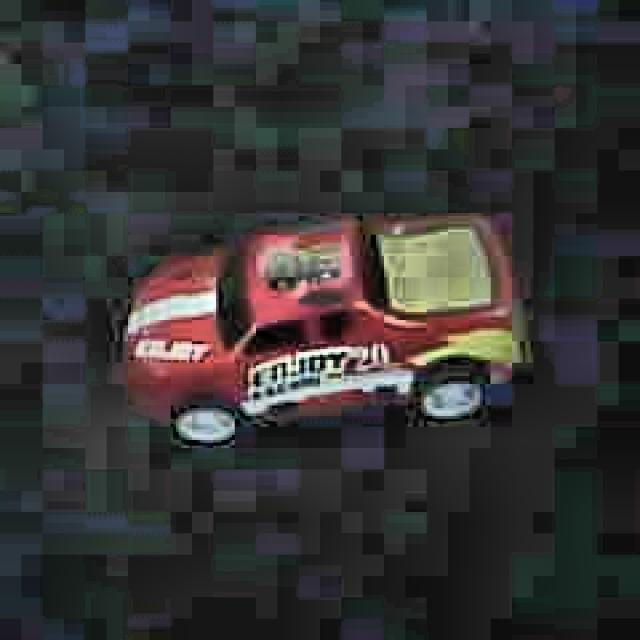car: (110, 199, 531, 453)
